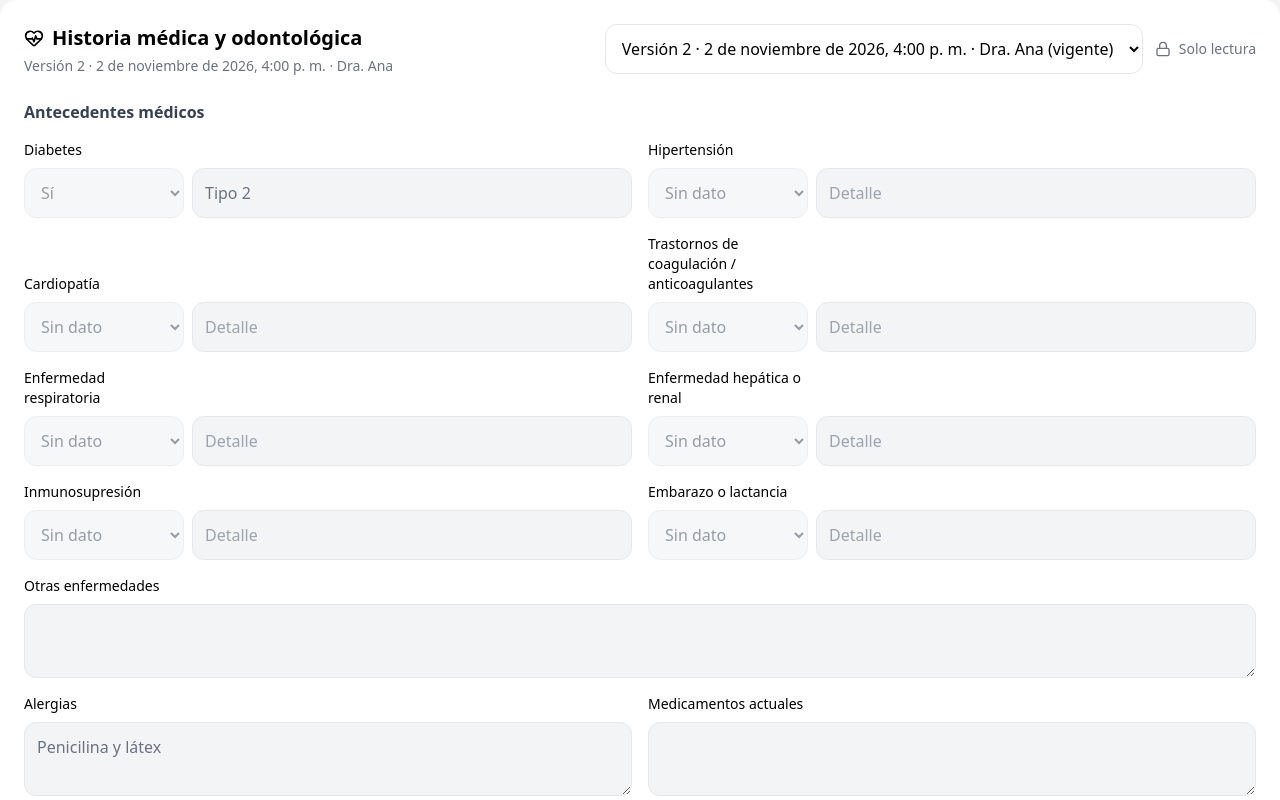
Test: MedicalHistoryCard › permite consultar una versión anterior
Select "Versión 1 · 1 de noviembre de 2026, 4:00 p. m. · Dr. Luis" in the dropdown named "Versión" at {"x": 874, "y": 49}, box [605,24,1143,74]
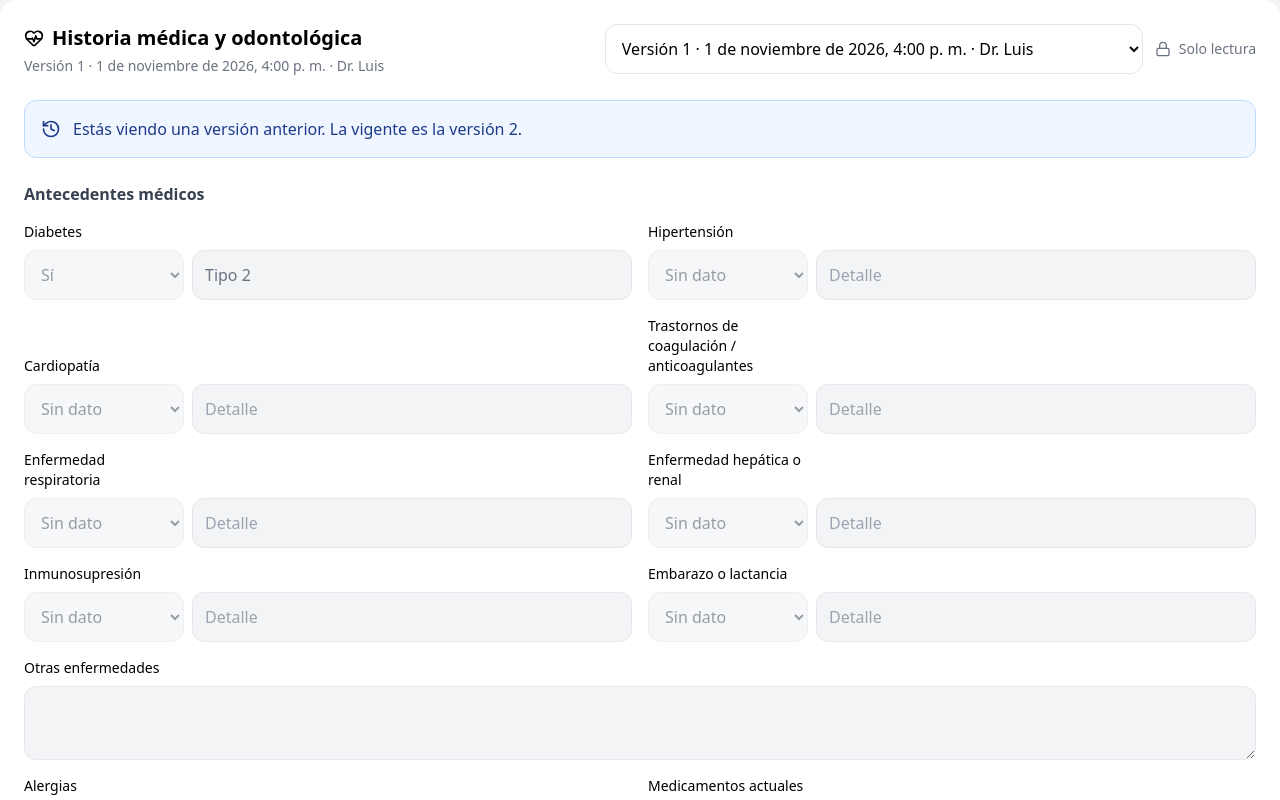
Check: the text "versión anterior" is shown, box [73,118,504,140]
Check: the text with test id "history-version" shows "Dr. Luis", box [24,56,384,75]
